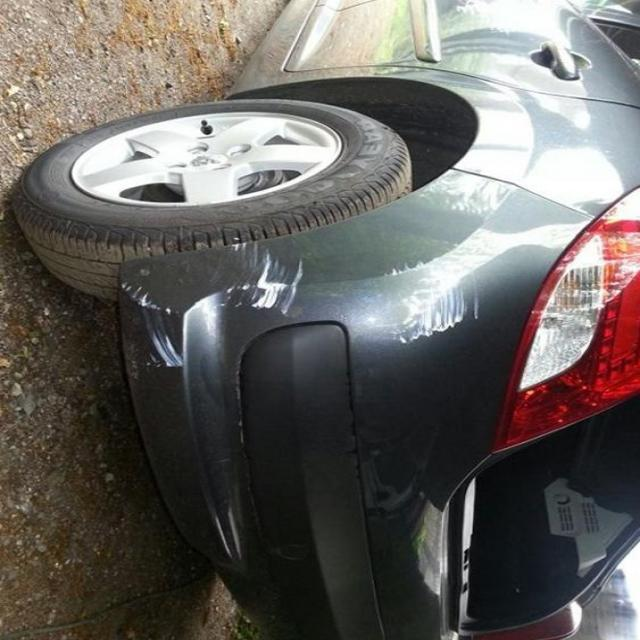scratch: (99, 232, 315, 388), (349, 230, 490, 368)
